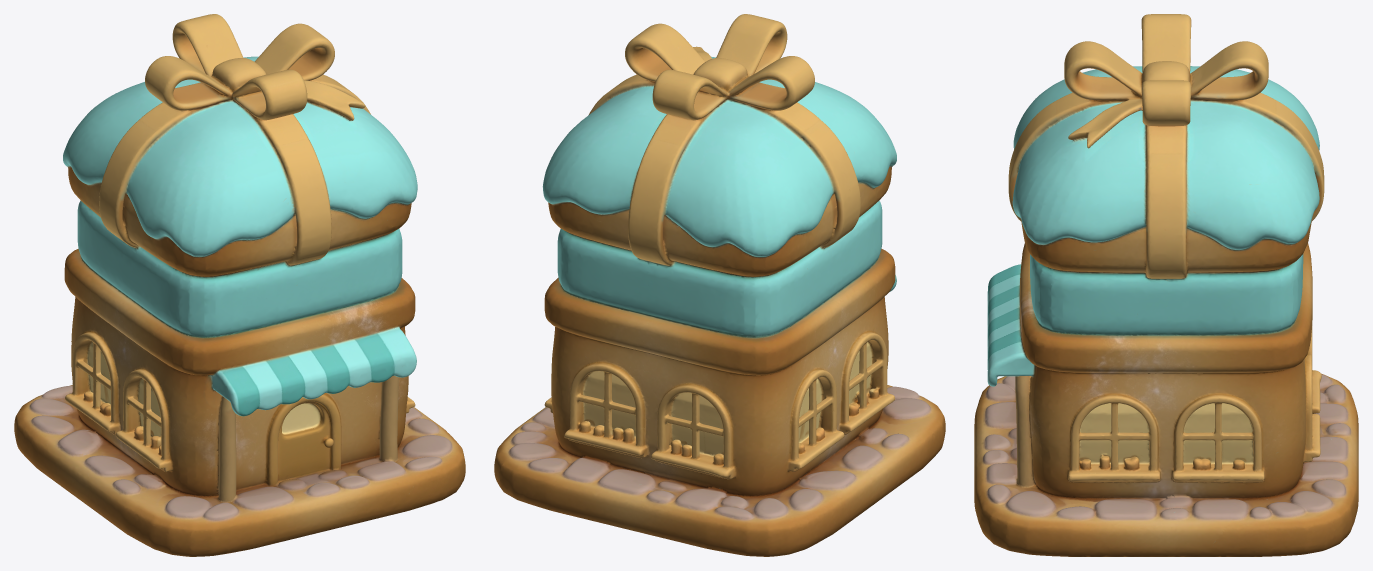
The model's file is galeries-boutique.glb.
3 renders of one model, left to right at view 1: azimuth 30°, elevation 25°; view 2: azimuth 150°, elevation 25°; view 3: azimuth 270°, elevation 25°, orthographic. The views are drawn at different scales.
Size of the model in its own units: 1.53 by 1.9 by 1.53.
Materials: 1 (1 with a texture image).
